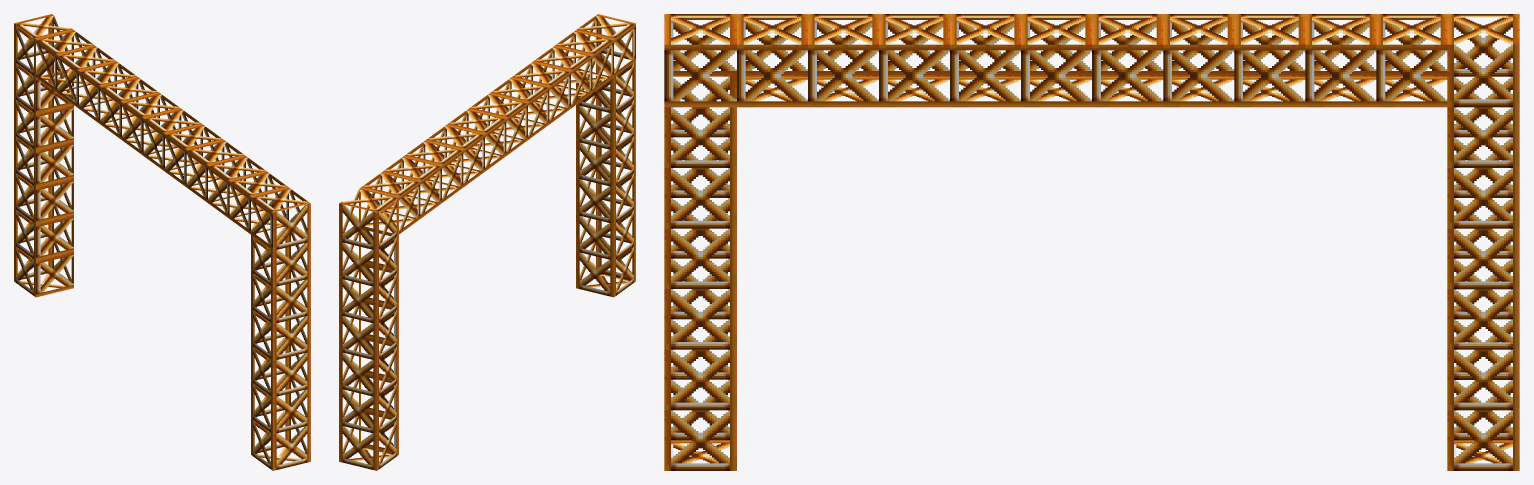
The model's file is raceway_banner.glb.
The picture shows the model from 3 angles, left to right: view 1: azimuth 30°, elevation 25°; view 2: azimuth 150°, elevation 25°; view 3: azimuth 270°, elevation 25°; orthographic projection. The views are drawn at different scales.
Visible parts, largest first — view 1: Cube; view 2: Cube; view 3: Cube.
Part boxes in pixels (x1=…): Cube: x1=14, y1=14, x2=310, y2=470; Cube: x1=339, y1=14, x2=635, y2=470; Cube: x1=664, y1=14, x2=1519, y2=470.
Bounding box in the file's own units: 0.5786 × 3.77 × 6.85.
Materials: 1 (1 with a texture image).
